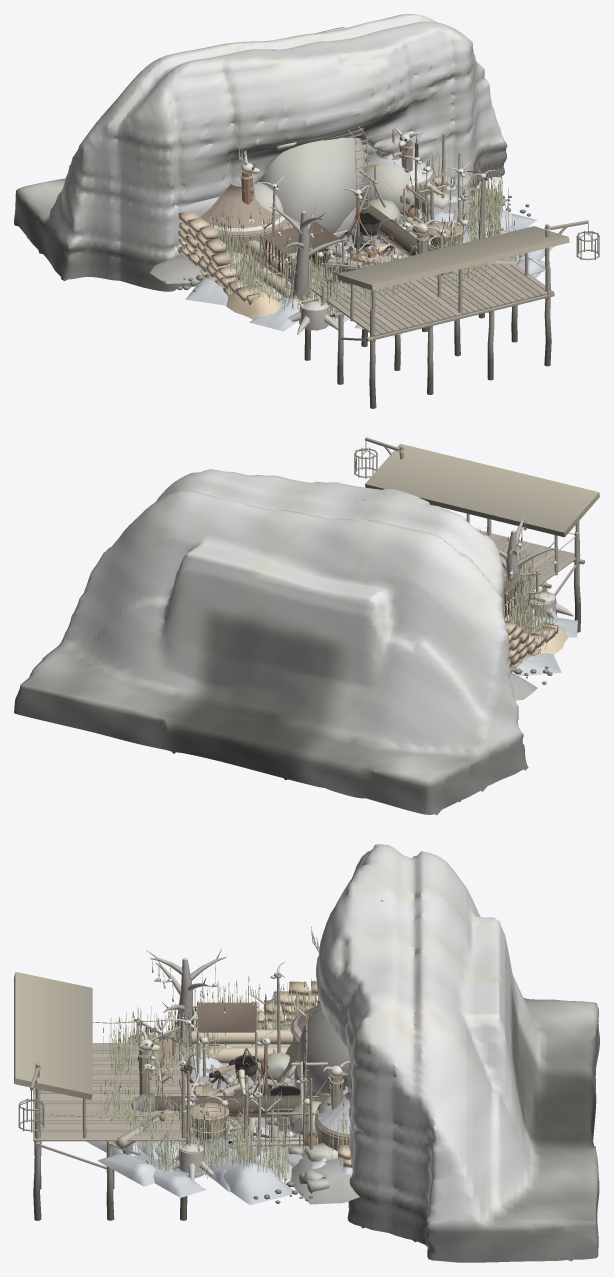
File: ork_camps.glb
3 views of the same model, one above another, from view 1: azimuth 30°, elevation 25°; view 2: azimuth 150°, elevation 25°; view 3: azimuth 270°, elevation 25° (orthographic). The views are drawn at different scales.
Parts seen in each view (by area): view 1: ork_camp_cave, ork_camp_stilts, ork_camp_eyrie, ork_camp_reeds, ork_camp_hunters, ork_camp_raiders, ork_camp_shaman, ork_camp_ram, ork_camp_ring, ork_camp_pitch, ork_camp_ram_burnt, ork_camp_ram_beam (+1 smaller); view 2: ork_camp_cave, ork_camp_stilts, ork_camp_reeds, ork_camp_raiders, ork_camp_hunters, ork_camp_shaman, ork_camp_ram; view 3: ork_camp_cave, ork_camp_stilts, ork_camp_reeds, ork_camp_hunters, ork_camp_shaman, ork_camp_ring, ork_camp_eyrie, ork_camp_ram, ork_camp_pitch, ork_camp_raiders, ork_camp_ram_burnt, ork_outcast_niche (+1 smaller).
Part boxes in pixels (x1=…): ork_camp_cave: x1=14, y1=14, x2=530, y2=291; ork_camp_stilts: x1=267, y1=170, x2=599, y2=408; ork_camp_eyrie: x1=253, y1=50, x2=446, y2=273; ork_camp_reeds: x1=206, y1=129, x2=524, y2=326; ork_camp_hunters: x1=185, y1=150, x2=554, y2=334; ork_camp_raiders: x1=177, y1=134, x2=449, y2=319; ork_camp_shaman: x1=238, y1=127, x2=462, y2=300; ork_camp_ram: x1=232, y1=152, x2=514, y2=334; ork_camp_ring: x1=248, y1=133, x2=516, y2=325; ork_camp_pitch: x1=259, y1=164, x2=494, y2=287; ork_camp_ram_burnt: x1=353, y1=198, x2=431, y2=255; ork_camp_ram_beam: x1=349, y1=169, x2=452, y2=274; ork_camp_cave: x1=14, y1=469, x2=552, y2=815; ork_camp_stilts: x1=354, y1=437, x2=599, y2=632; ork_camp_reeds: x1=478, y1=527, x2=558, y2=653; ork_camp_raiders: x1=505, y1=621, x2=568, y2=672; ork_camp_hunters: x1=504, y1=577, x2=577, y2=676; ork_camp_shaman: x1=498, y1=507, x2=558, y2=617; ork_camp_ram: x1=504, y1=591, x2=573, y2=632; ork_camp_cave: x1=185, y1=844, x2=599, y2=1262; ork_camp_stilts: x1=14, y1=972, x2=304, y2=1220; ork_camp_reeds: x1=87, y1=976, x2=350, y2=1183; ork_camp_hunters: x1=86, y1=1001, x2=352, y2=1205; ork_camp_shaman: x1=137, y1=926, x2=350, y2=1145; ork_camp_ring: x1=115, y1=985, x2=343, y2=1179; ork_camp_eyrie: x1=205, y1=900, x2=383, y2=1154; ork_camp_ram: x1=128, y1=1029, x2=292, y2=1180; ork_camp_pitch: x1=180, y1=1001, x2=317, y2=1146; ork_camp_raiders: x1=194, y1=981, x2=351, y2=1167; ork_camp_ram_burnt: x1=149, y1=1093, x2=329, y2=1137; ork_outcast_niche: x1=229, y1=1052, x2=329, y2=1136.
Size of the model in its own units: 17.59 by 9.03 by 18.13.
